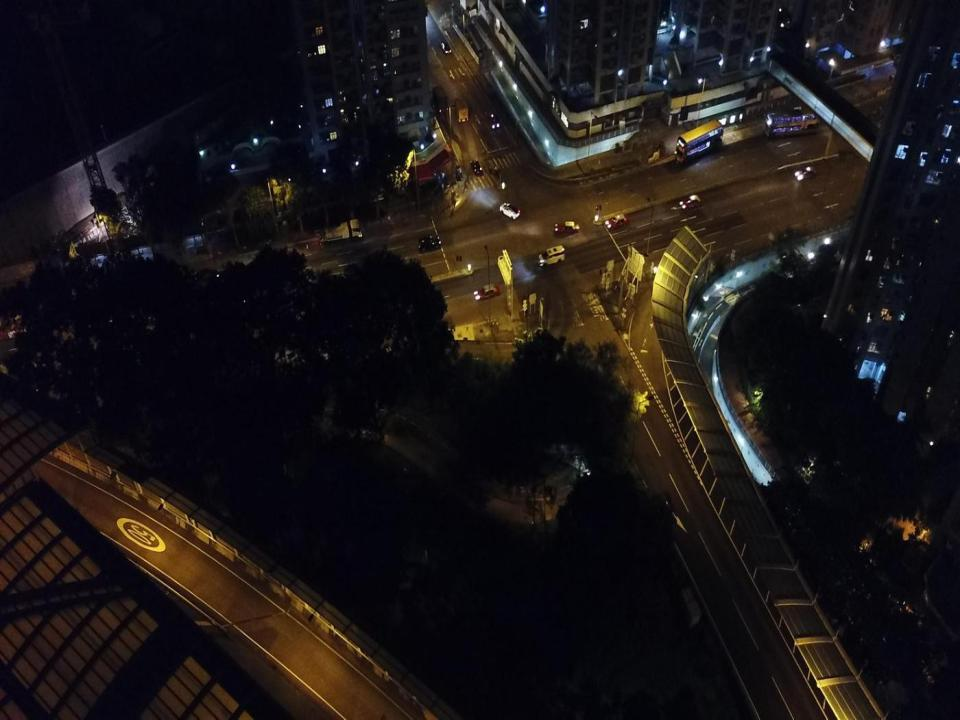bus: (674, 118, 724, 164), (762, 105, 822, 137)
car: (475, 282, 501, 300), (605, 212, 631, 228), (499, 202, 521, 220), (554, 220, 580, 235), (680, 194, 704, 210), (418, 235, 442, 251), (795, 164, 817, 181), (487, 110, 500, 129), (470, 158, 483, 176), (439, 40, 452, 55)
truck: (314, 219, 363, 248), (432, 84, 448, 113), (454, 97, 468, 122)
van: (538, 244, 565, 268)
